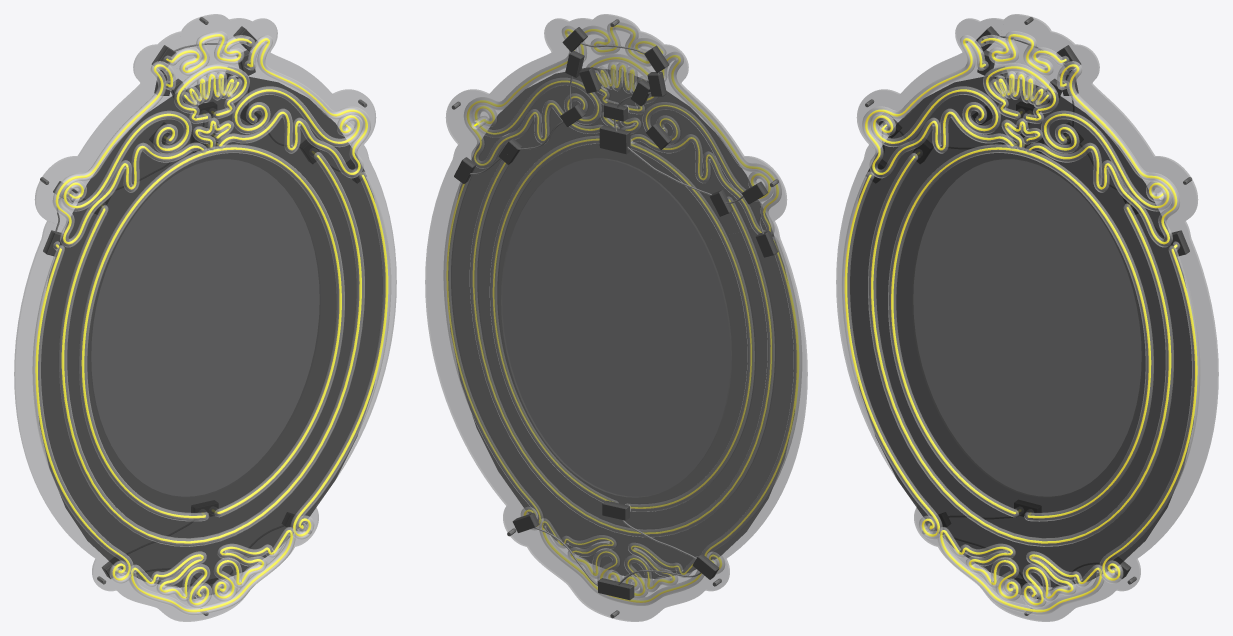
Rendered from neonFrame.glb.
3 renders of one model, left to right at view 1: azimuth 30°, elevation 25°; view 2: azimuth 150°, elevation 25°; view 3: azimuth 330°, elevation 25°, orthographic.
Visible parts, largest first — view 1: Oval, Glass_Glass1_0, Acrylic_Acrylic1_0, Emissive_Emissive_Yellow_0.001, Cubes_Cubes1_0.001; view 2: Oval, Acrylic_Acrylic1_0, Glass_Glass1_0, Emissive_Emissive_Yellow_0.001, Cubes_Cubes1_0.001, Cable_Cable1_0.001; view 3: Oval, Glass_Glass1_0, Acrylic_Acrylic1_0, Emissive_Emissive_Yellow_0.001, Cubes_Cubes1_0.001.
Boxes of the visible parts, x1,y1,x2,y2 form: Oval: [38, 76, 385, 587]; Glass_Glass1_0: [32, 31, 391, 615]; Acrylic_Acrylic1_0: [14, 14, 396, 621]; Emissive_Emissive_Yellow_0.001: [35, 34, 388, 612]; Cubes_Cubes1_0.001: [43, 26, 366, 598]; Oval: [448, 67, 796, 578]; Acrylic_Acrylic1_0: [425, 14, 807, 621]; Glass_Glass1_0: [443, 22, 801, 605]; Emissive_Emissive_Yellow_0.001: [446, 25, 798, 602]; Cubes_Cubes1_0.001: [454, 27, 777, 600]; Cable_Cable1_0.001: [469, 42, 763, 585]; Oval: [847, 76, 1194, 587]; Glass_Glass1_0: [841, 31, 1200, 615]; Acrylic_Acrylic1_0: [836, 14, 1218, 621]; Emissive_Emissive_Yellow_0.001: [844, 34, 1197, 612]; Cubes_Cubes1_0.001: [866, 26, 1189, 599].
Size of the model in its own units: 0.5008 by 0.7564 by 0.0292.
